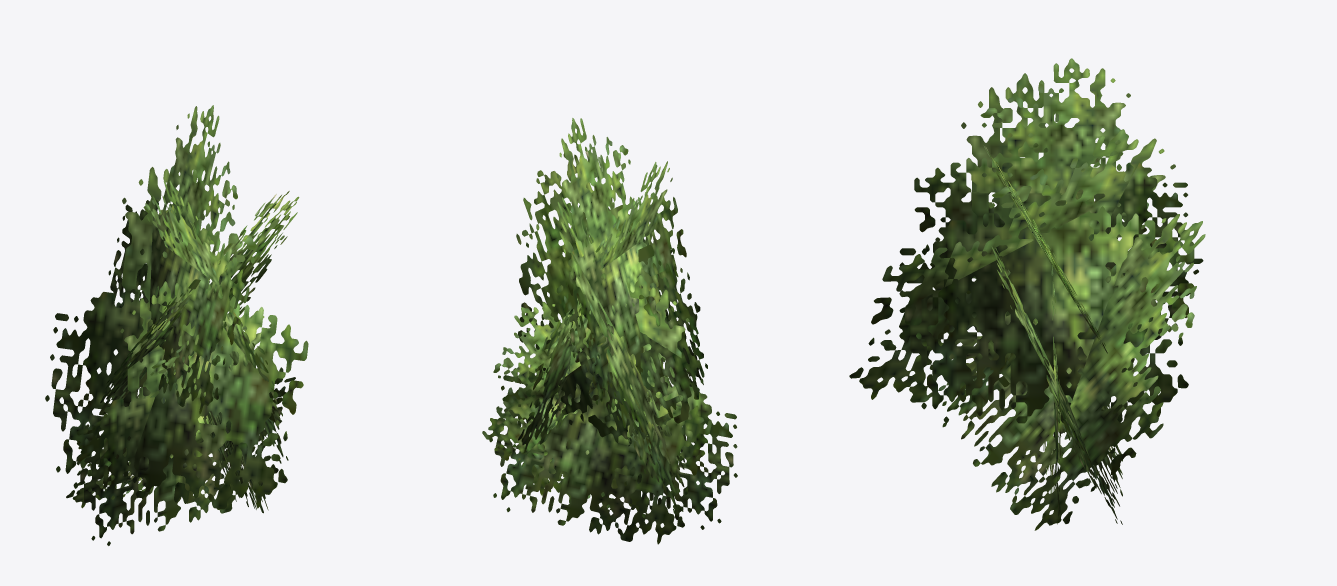
The model's file is shrub-7.glb.
3 views of the same model, side by side, from view 1: azimuth 30°, elevation 25°; view 2: azimuth 150°, elevation 25°; view 3: azimuth 270°, elevation 25° (orthographic). The views are drawn at different scales.
Visible parts, largest first — view 1: shrub-7; view 2: shrub-7; view 3: shrub-7.
Boxes of the visible parts, x1,y1,x2,y2 form: shrub-7: [45, 105, 308, 545]; shrub-7: [482, 118, 737, 544]; shrub-7: [849, 58, 1205, 530].
Size of the model in its own units: 2.66 by 3.71 by 3.33.
Materials: 1 (1 with a texture image).
